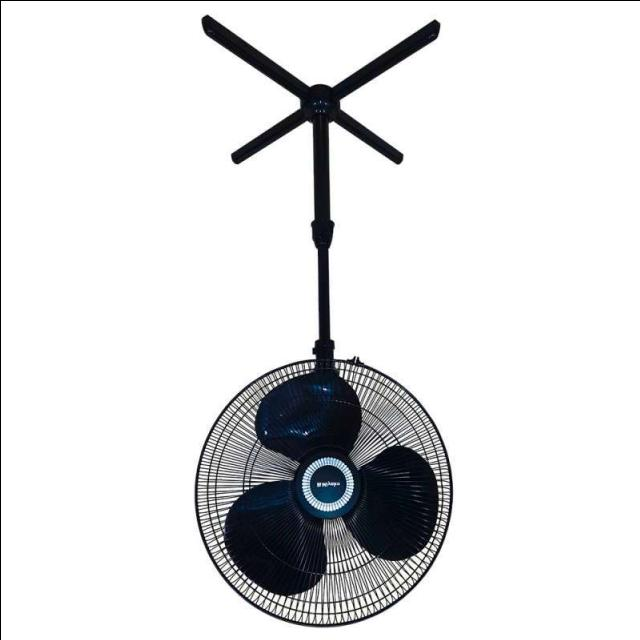fan: (185, 10, 458, 632)
